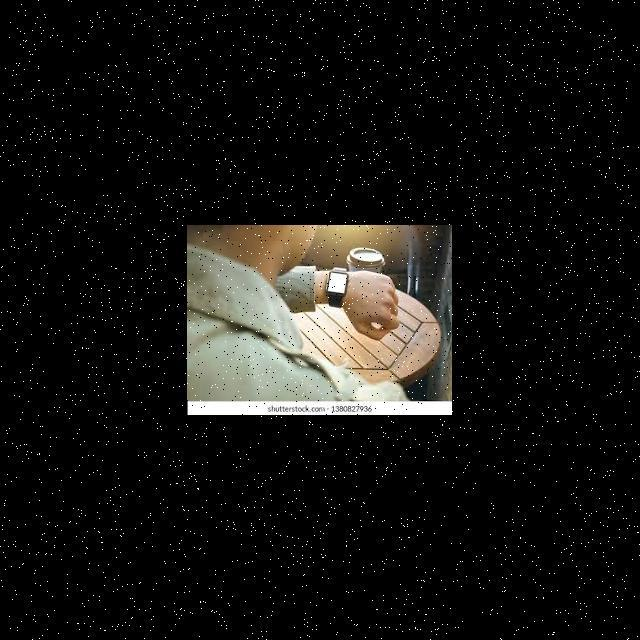watch: (325, 257, 358, 333)
